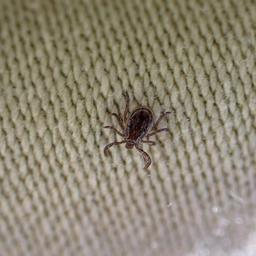Ixodes scapularis: (115, 90, 183, 159)
